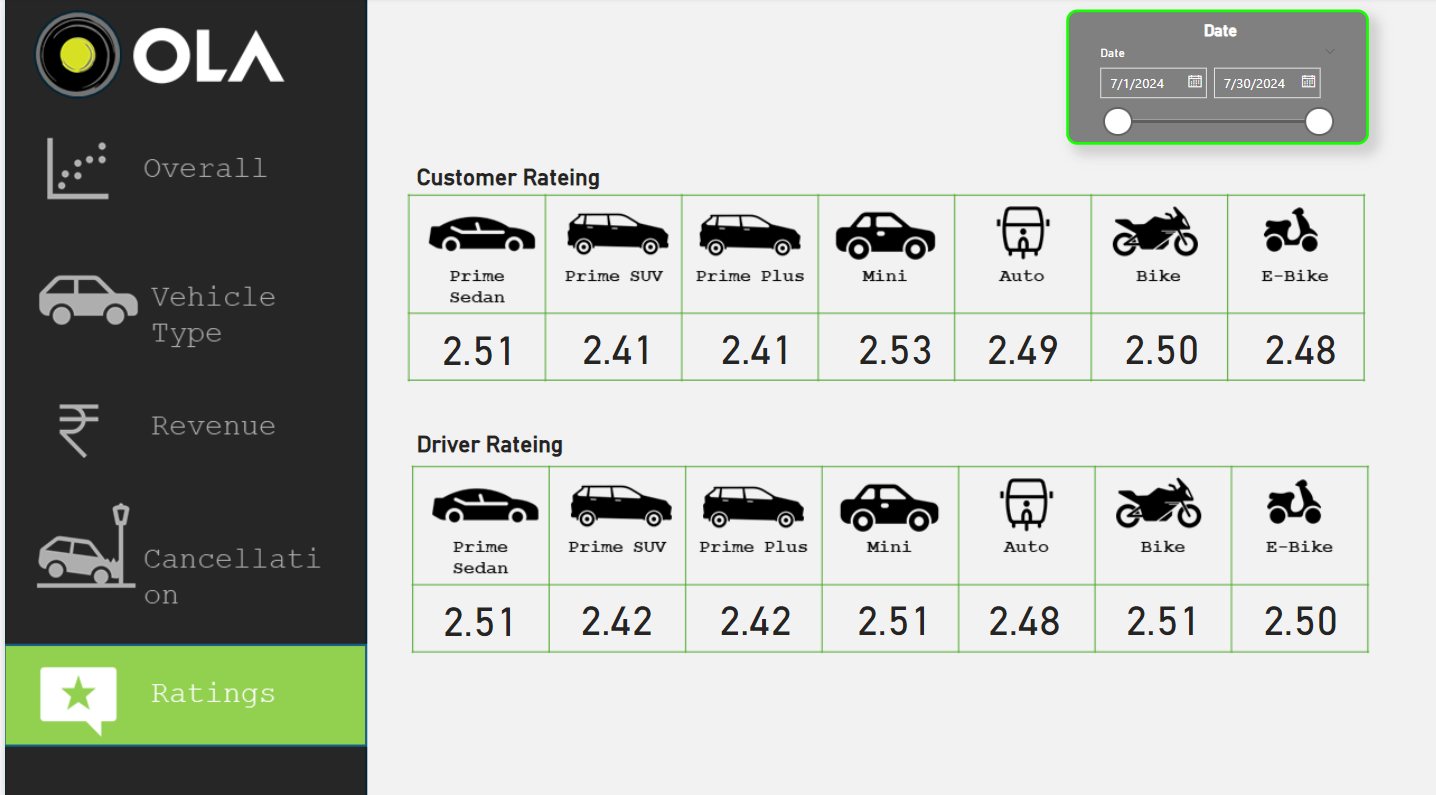

What the dashboard file says about the page in this screenshot:
{"tool":"powerbi","page":{"name":"Ratings","canvas":[1280,720],"ordinal":4},"visuals":[{"type":"card","fields":{"Values":["Avg(Bookings_Cleaned.Customer_Rating)"]},"box":[361.7,286.2,123.6,53.3],"z":0},{"type":"card","fields":{"Values":["Avg(Bookings_Cleaned.Customer_Rating)"]},"box":[485.8,286.1,123.8,53.2],"z":1},{"type":"card","fields":{"Values":["Avg(Bookings_Cleaned.Customer_Rating)"]},"box":[609.5,286.1,123.8,53.2],"z":2},{"type":"card","fields":{"Values":["Avg(Bookings_Cleaned.Customer_Rating)"]},"box":[733.3,286.1,123.8,53.2],"z":3},{"type":"card","fields":{"Values":["Avg(Bookings_Cleaned.Customer_Rating)"]},"box":[847.7,286.1,123.8,53.2],"z":4},{"type":"card","fields":{"Values":["Avg(Bookings_Cleaned.Customer_Rating)"]},"box":[971.5,286.1,123.8,53.2],"z":5},{"type":"card","fields":{"Values":["Avg(Bookings_Cleaned.Customer_Rating)"]},"box":[1095.3,286.1,123.8,53.2],"z":6},{"type":"card","fields":{"Values":["Avg(Bookings_Cleaned.Driver_Ratings)"]},"box":[362.5,528,123.5,54.4],"z":7},{"type":"card","fields":{"Values":["Avg(Bookings_Cleaned.Driver_Ratings)"]},"box":[484.8,527.2,124,54.9],"z":8},{"type":"card","fields":{"Values":["Avg(Bookings_Cleaned.Driver_Ratings)"]},"box":[608.8,527.2,124,54.9],"z":9},{"type":"card","fields":{"Values":["Avg(Bookings_Cleaned.Driver_Ratings)"]},"box":[732.7,527.2,124,54.9],"z":10},{"type":"card","fields":{"Values":["Avg(Bookings_Cleaned.Driver_Ratings)"]},"box":[848.8,527.2,124,54.9],"z":11},{"type":"card","fields":{"Values":["Avg(Bookings_Cleaned.Driver_Ratings)"]},"box":[972.8,527.2,124,54.9],"z":12},{"type":"card","fields":{"Values":["Avg(Bookings_Cleaned.Driver_Ratings)"]},"box":[1095.2,527.2,124,54.9],"z":13},{"type":"card","title":"Driver Rateing","fields":{"Values":["Sum(Bookings_Cleaned.Driver_Ratings)"]},"box":[363,387.7,143.1,31.2],"z":14},{"type":"card","title":"Customer Rateing","fields":{"Values":["Sum(Bookings_Cleaned.Driver_Ratings)"]},"box":[363,148.3,184.8,29.9],"z":15},{"type":"slicer","title":"Date","fields":{"Values":["Bookings_Cleaned.Date"]},"box":[948.5,11.7,270.6,121],"z":16}]}

Visuals, with their boxes on the page's 1280x720 design canvas (x1, y1, x2, y2). These are canvas units, not pixel positions in the 1436x795 screenshot, which may show the page scaled, cropped or inside an application window:
card - Avg(Bookings_Cleaned.Customer_Rating): (x1=362, y1=286, x2=485, y2=340)
card - Avg(Bookings_Cleaned.Customer_Rating): (x1=486, y1=286, x2=610, y2=339)
card - Avg(Bookings_Cleaned.Customer_Rating): (x1=610, y1=286, x2=733, y2=339)
card - Avg(Bookings_Cleaned.Customer_Rating): (x1=733, y1=286, x2=857, y2=339)
card - Avg(Bookings_Cleaned.Customer_Rating): (x1=848, y1=286, x2=972, y2=339)
card - Avg(Bookings_Cleaned.Customer_Rating): (x1=972, y1=286, x2=1095, y2=339)
card - Avg(Bookings_Cleaned.Customer_Rating): (x1=1095, y1=286, x2=1219, y2=339)
card - Avg(Bookings_Cleaned.Driver_Ratings): (x1=362, y1=528, x2=486, y2=582)
card - Avg(Bookings_Cleaned.Driver_Ratings): (x1=485, y1=527, x2=609, y2=582)
card - Avg(Bookings_Cleaned.Driver_Ratings): (x1=609, y1=527, x2=733, y2=582)
card - Avg(Bookings_Cleaned.Driver_Ratings): (x1=733, y1=527, x2=857, y2=582)
card - Avg(Bookings_Cleaned.Driver_Ratings): (x1=849, y1=527, x2=973, y2=582)
card - Avg(Bookings_Cleaned.Driver_Ratings): (x1=973, y1=527, x2=1097, y2=582)
card - Avg(Bookings_Cleaned.Driver_Ratings): (x1=1095, y1=527, x2=1219, y2=582)
"Driver Rateing" card: (x1=363, y1=388, x2=506, y2=419)
"Customer Rateing" card: (x1=363, y1=148, x2=548, y2=178)
"Date" slicer: (x1=948, y1=12, x2=1219, y2=133)
